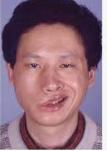strokeMouthSevere: (32, 92, 71, 112)
